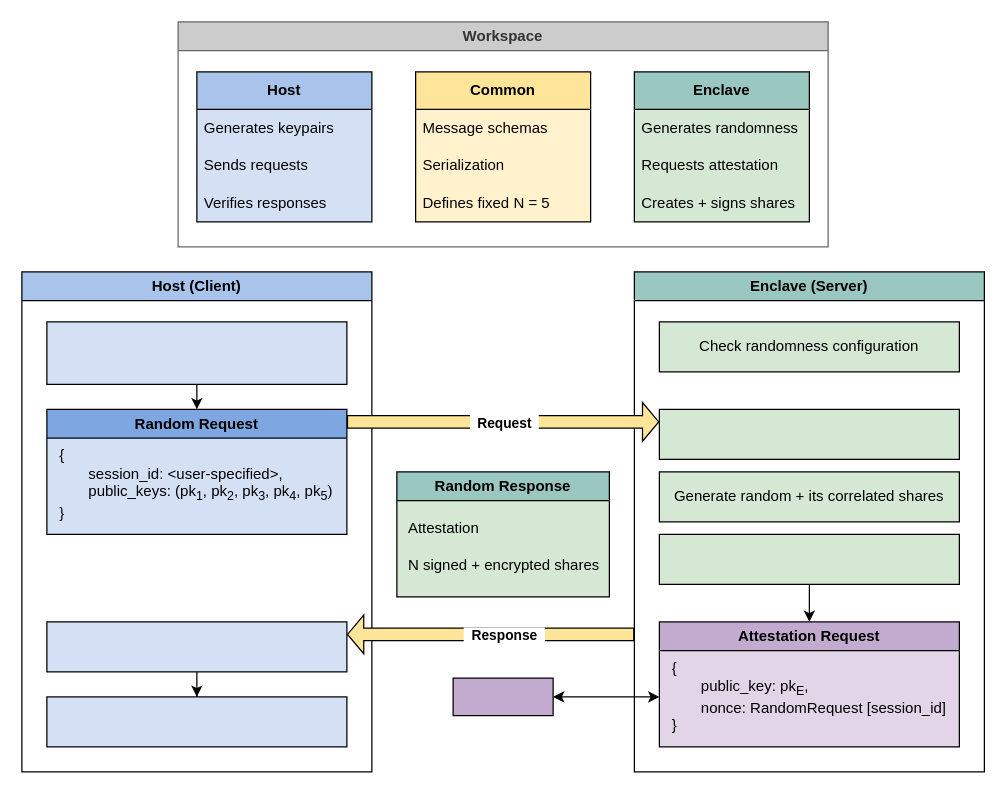
The diagram is 1006 pixels wide and 794 high, and some of its shapes have lost their labels. The shapes that lost their labels are listed below. From the top down, each one's centre as x and y in pixels, then its label:
the point at 196,352: Generate N = 5 dummy keypairs (pk 1 , pk 2 , pk 3 , pk 4 , pk 5 )
the point at 808,433: Generate signing keypair (sk E , pk E )
the point at 808,558: For share i, encrypt w/ pk i and sign w/ sk E
the point at 196,646: Verify attestation is valid AWS attestation
the point at 502,696: NSM
the point at 196,721: Verify outputs based on scheme
